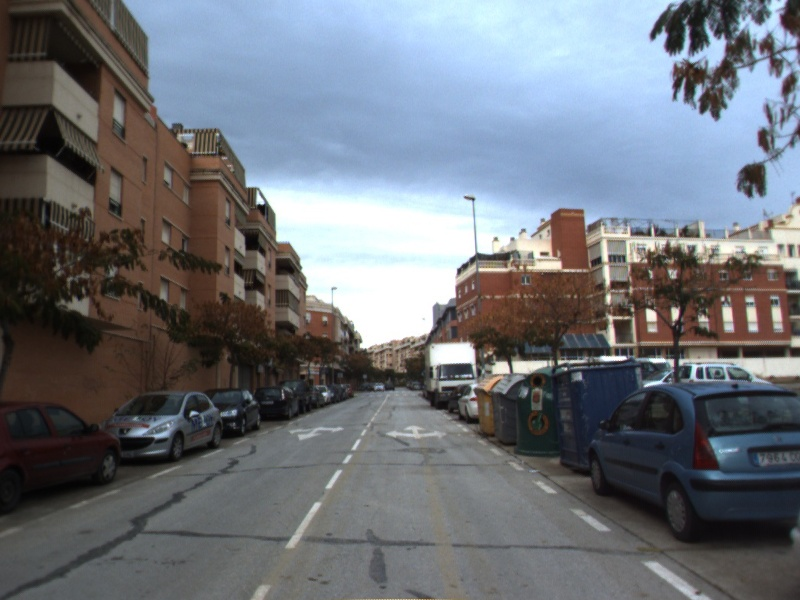STRAIGHT_LEFT_RIGHT: (384, 422, 450, 441)
